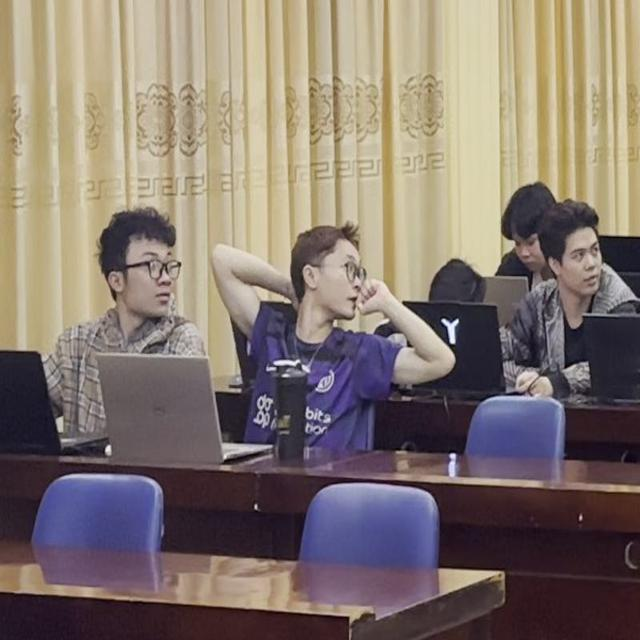Looking away: (498, 182, 544, 264)
Turning around: (224, 206, 384, 456), (61, 193, 203, 441), (511, 213, 623, 384)
